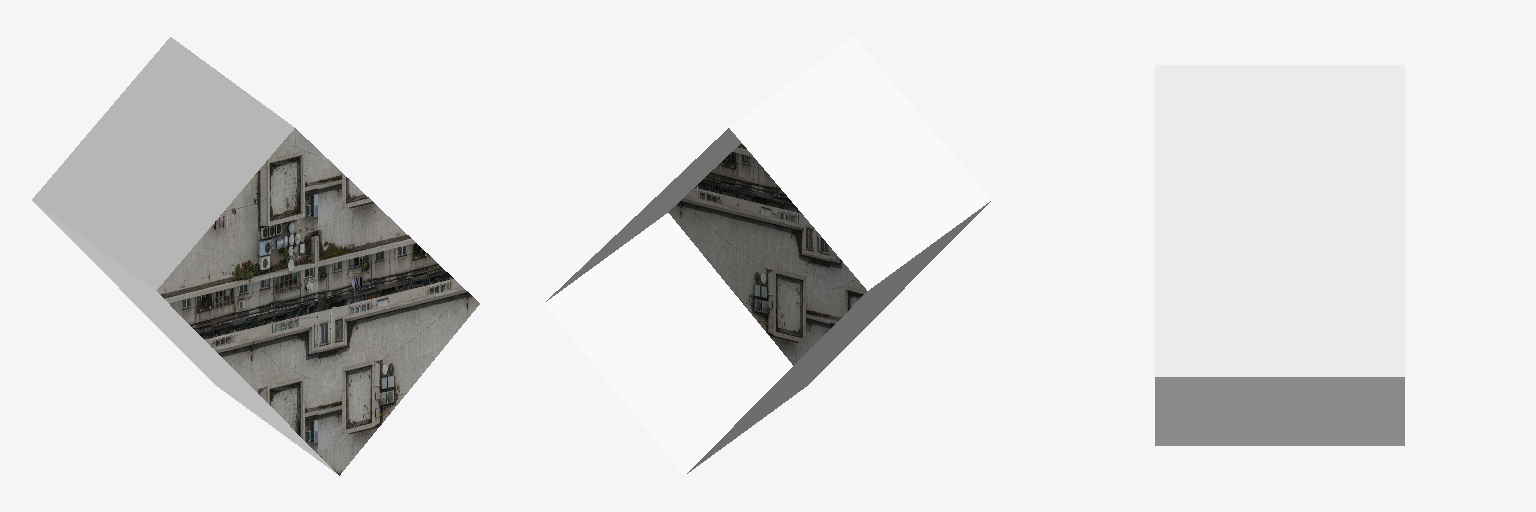
3 renders of one model, left to right at view 1: azimuth 30°, elevation 25°; view 2: azimuth 150°, elevation 25°; view 3: azimuth 270°, elevation 25°, orthographic.
Parts seen in each view (by area): view 1: Building; view 2: Building; view 3: Building.
Boxes of the visible parts, box(x1,y1,x2,y2) form: Building: box(32, 37, 479, 475); Building: box(544, 37, 991, 475); Building: box(1155, 65, 1404, 445).
Size of the model in its own units: 45.07 by 47.71 by 30.
Materials: 2 (1 with a texture image).